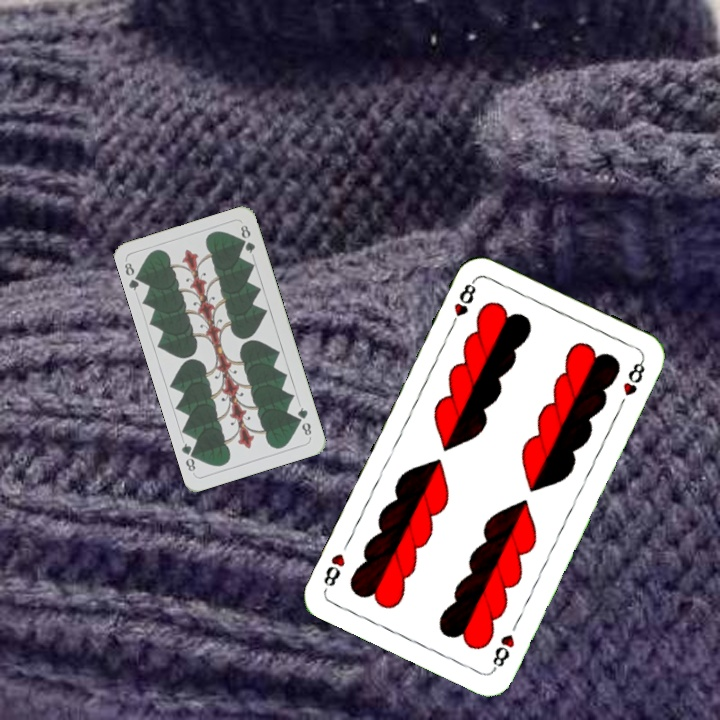G8: (120, 258, 145, 293), (293, 403, 314, 438)
H8: (446, 276, 479, 332), (488, 630, 517, 673)
